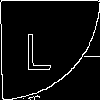L: (24, 24, 52, 70)
